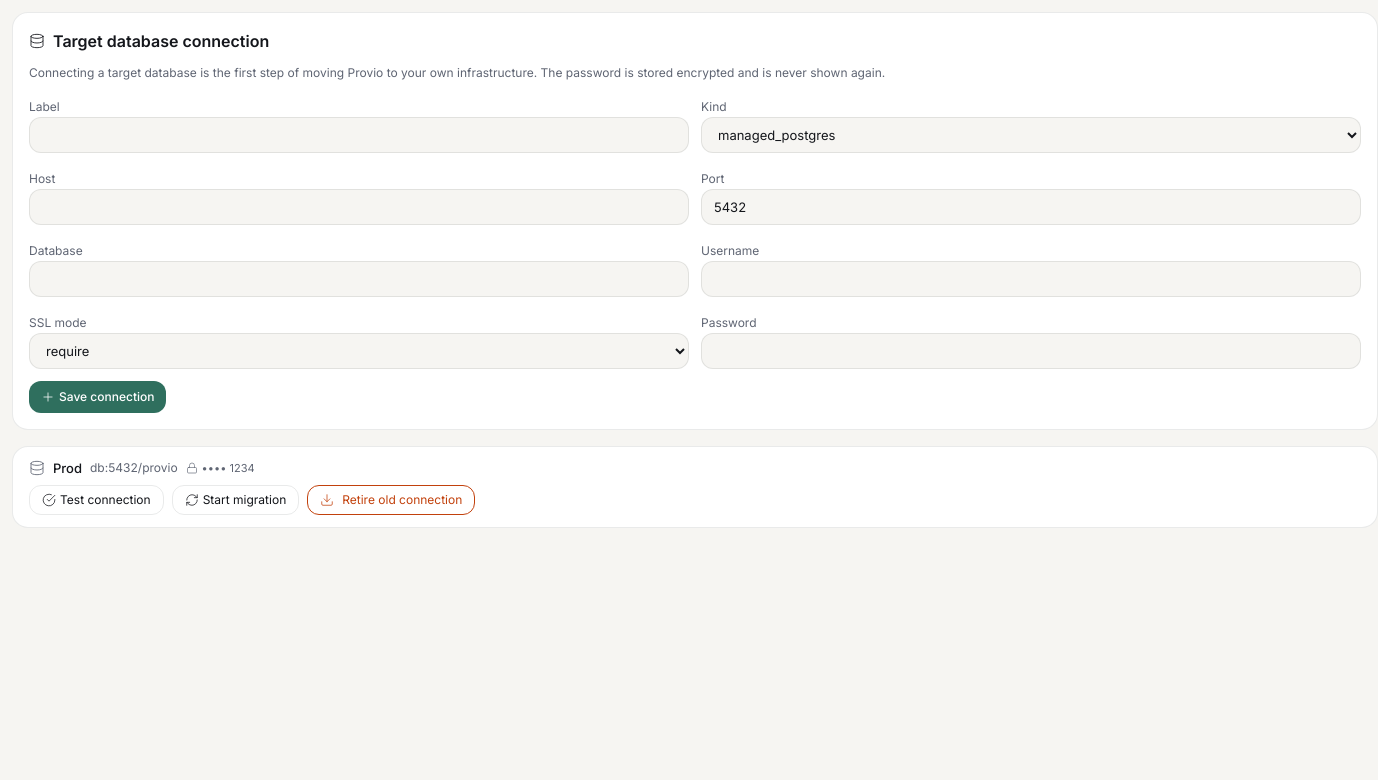
Test: OA-15 org hosting and database (F16) › starts a migration job and shows the runner command
The width and height of the screenshot is (1378, 780).
Click the button with test id "oa-hosting-migrate-conn-1" at x=235, y=500, box [172,485,299,515]
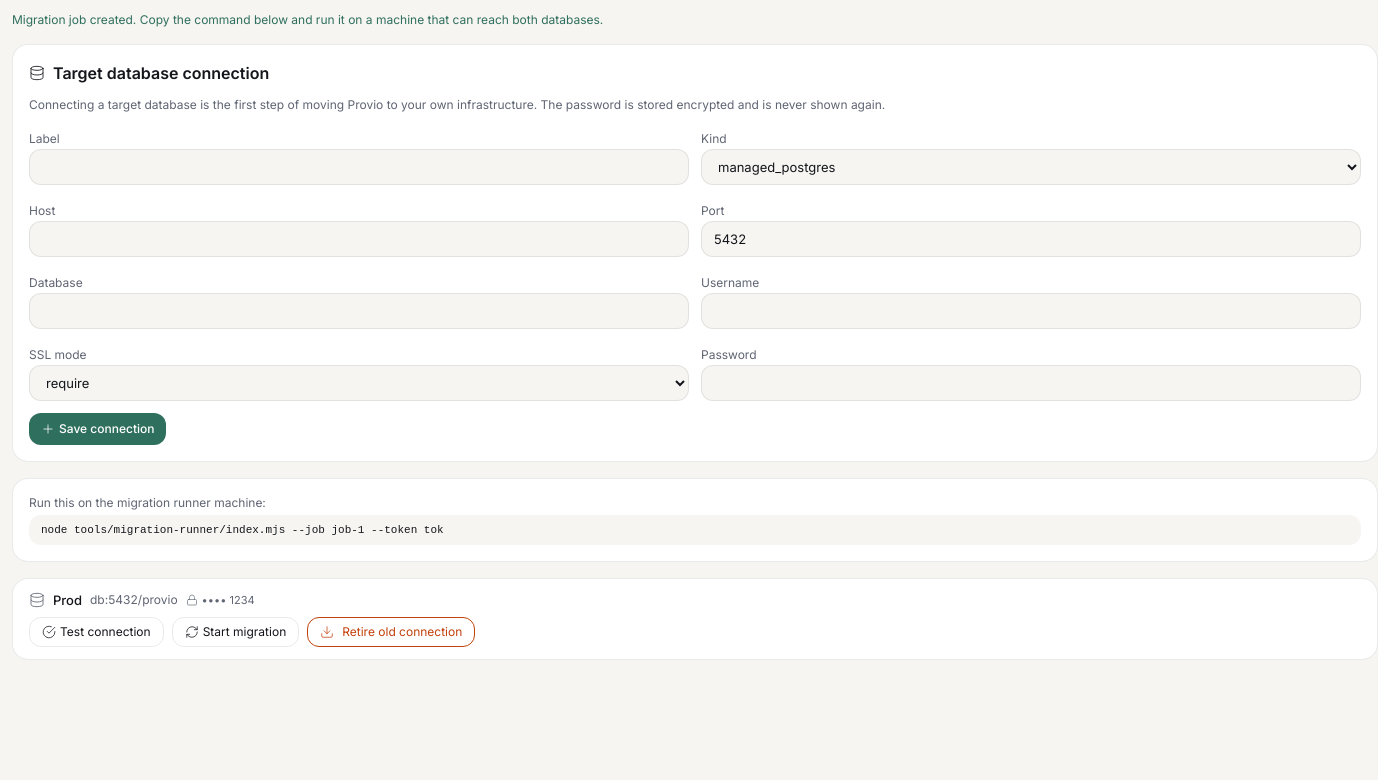
Now the element with test id "oa-hosting-runner-command" shows "migration-runner", box [41,524,444,536]
